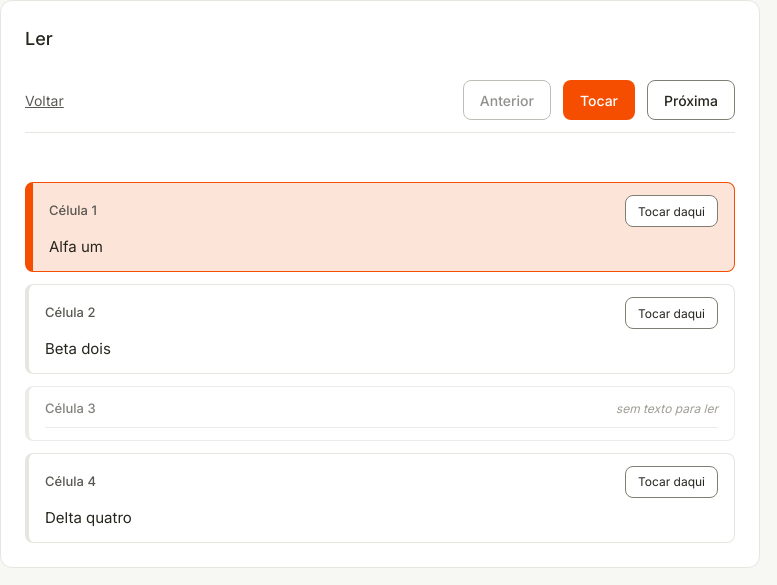
it: ReaderView: começar a tocar › assim que a primeira célula fica pronta, toca sozinha com o MP3 certo
The image size is (777, 585).
Click the button "Tocar" at [599, 100], box [563,80,635,120]
Wait 1000 ms
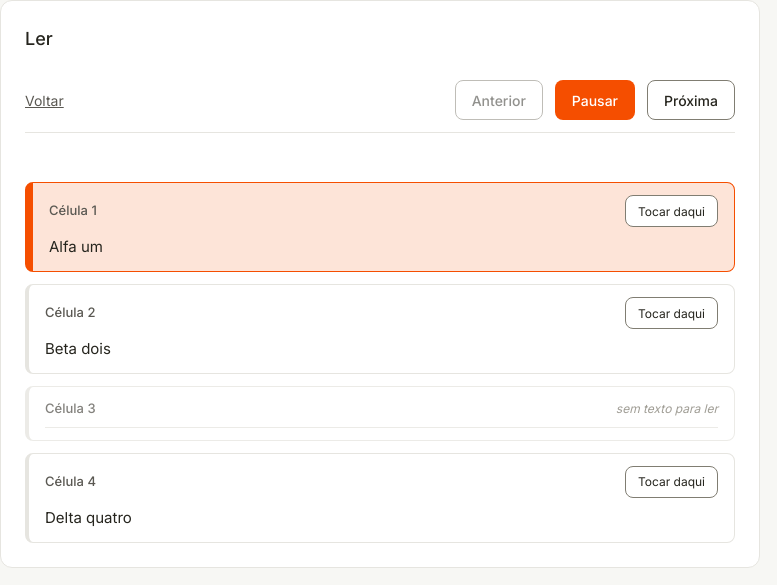
Expected: the message is empty, [25,145,735,166]
Expected: the button "Pausar" is shown, [555,80,635,120]
